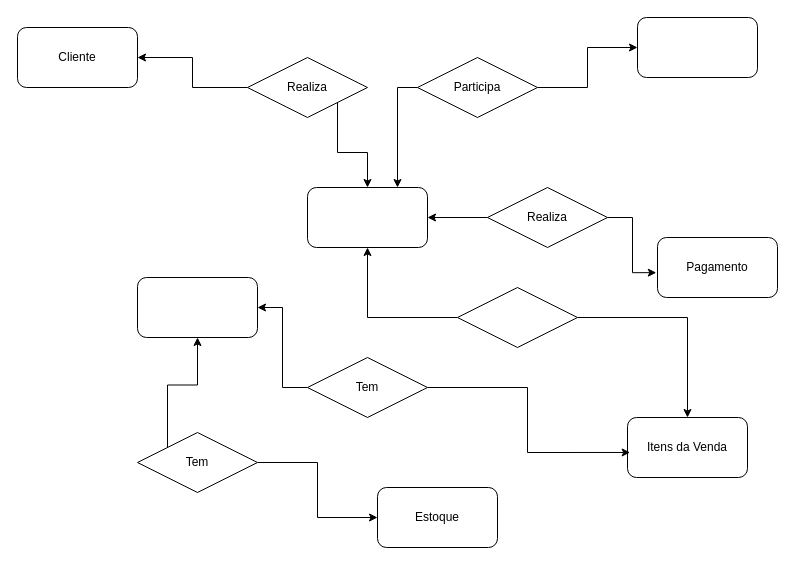
The diagram is 795 pixels wide and 565 high, and some of its shapes have lost their labels. The box of each missing label's shape, as (x1, y1, x2, y2) in pixels:
Detalha: (456, 286, 578, 348)
Funcionário: (636, 16, 758, 78)
Produto: (136, 276, 258, 338)
Venda: (306, 186, 428, 248)
